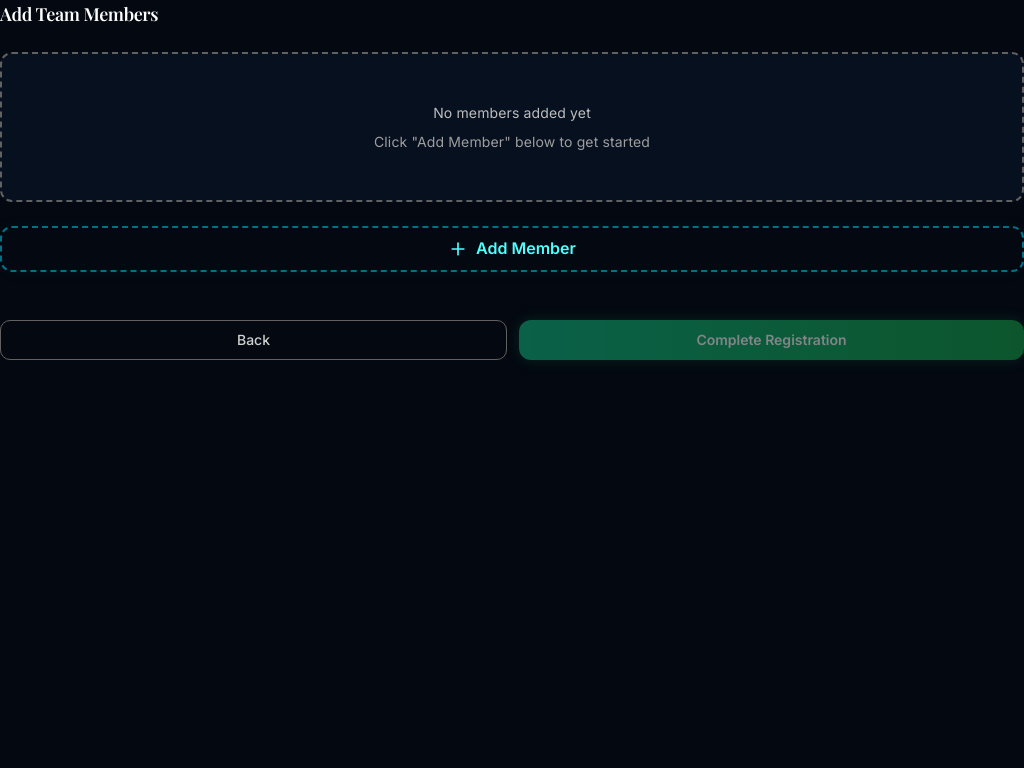
Test: TeamMembersForm Component › should display member form when "Add Member" button is clicked
This screenshot has width=1024, height=768.
Click the button "Add Member" at (512, 249), box [0,226,1023,272]
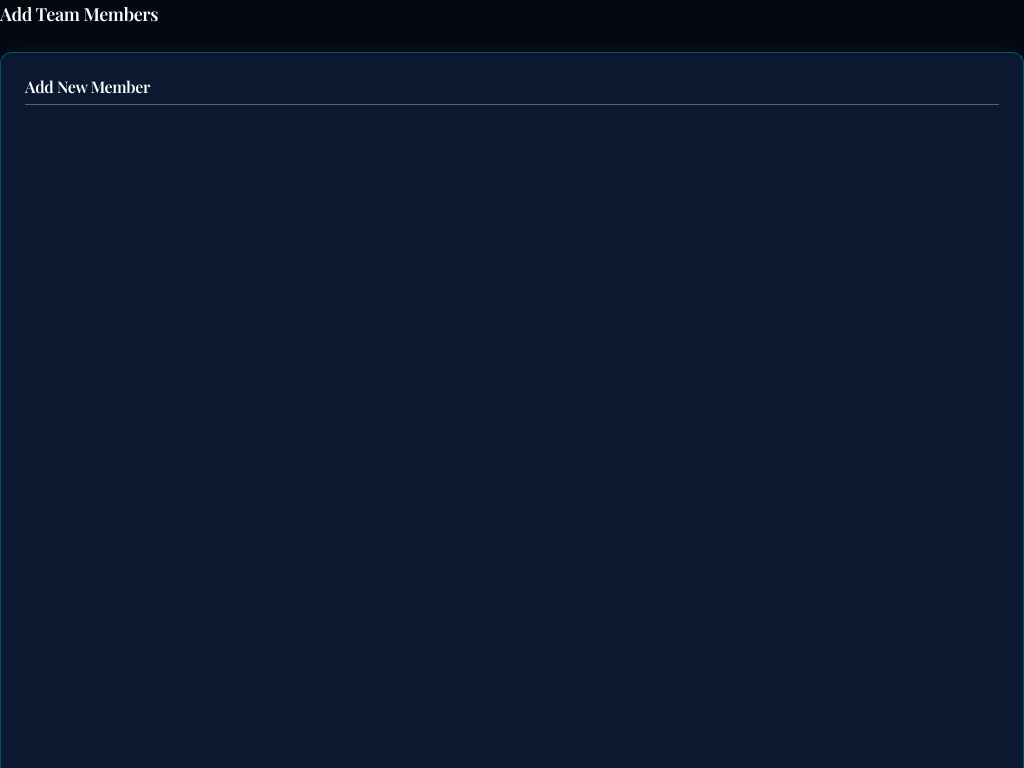
Now the heading "Add New Member" is shown, box [25,77,999,105]
